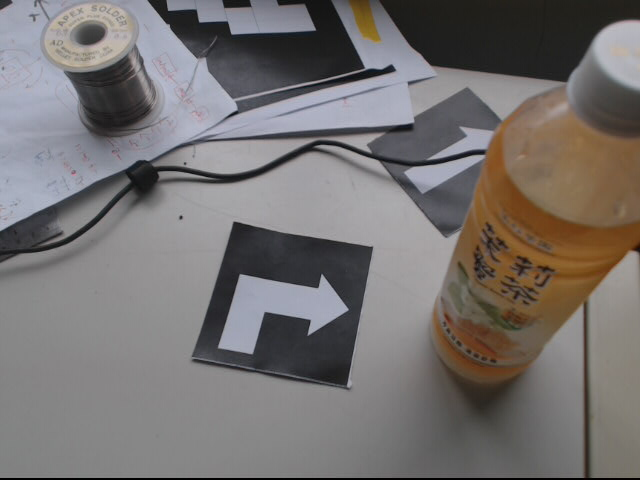right: (193, 223, 372, 386)
